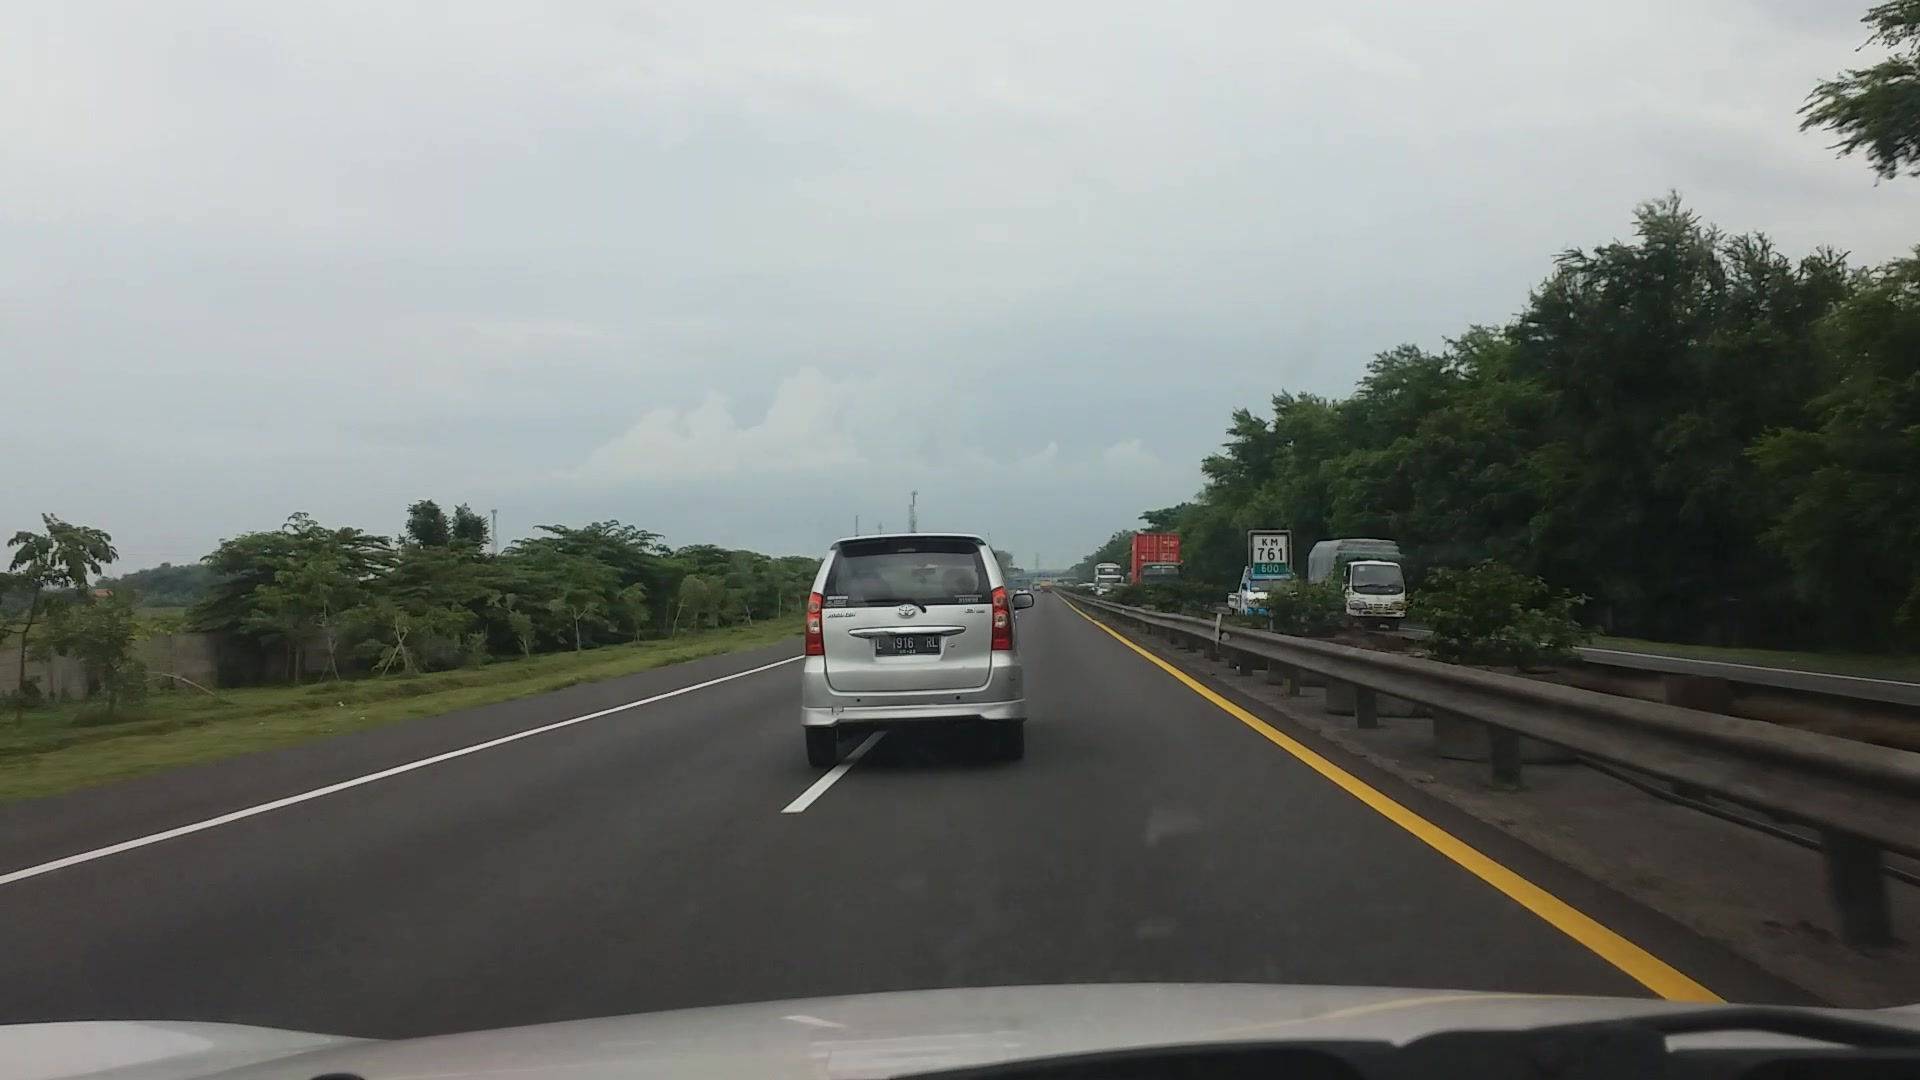plate_positive: (874, 634, 939, 657)
